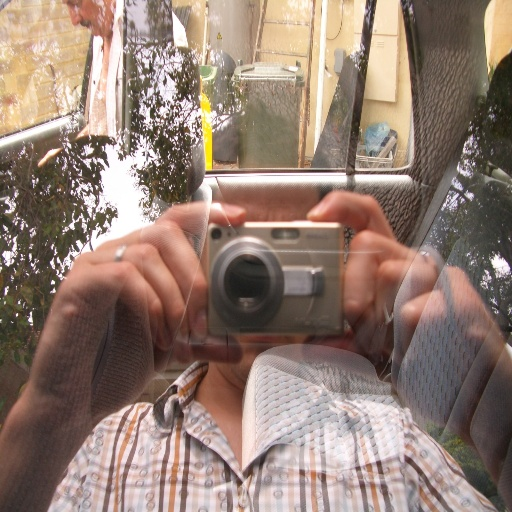hand: (29, 195, 232, 487)
